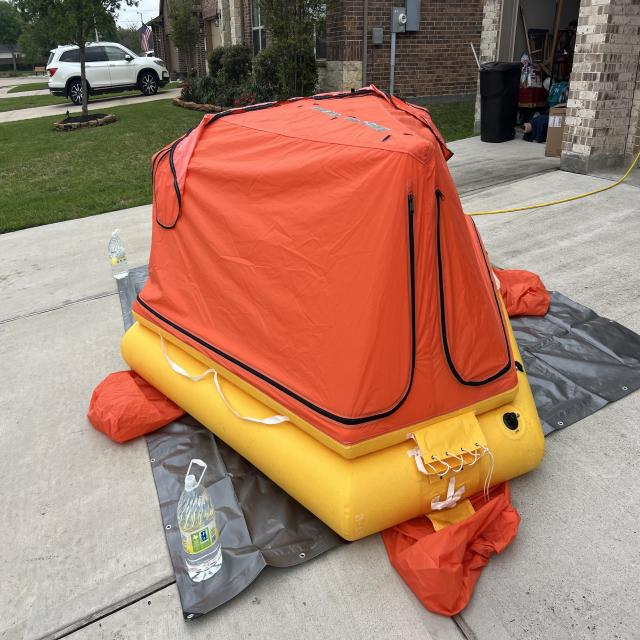Multi-person_life_raft: (87, 82, 551, 618)
